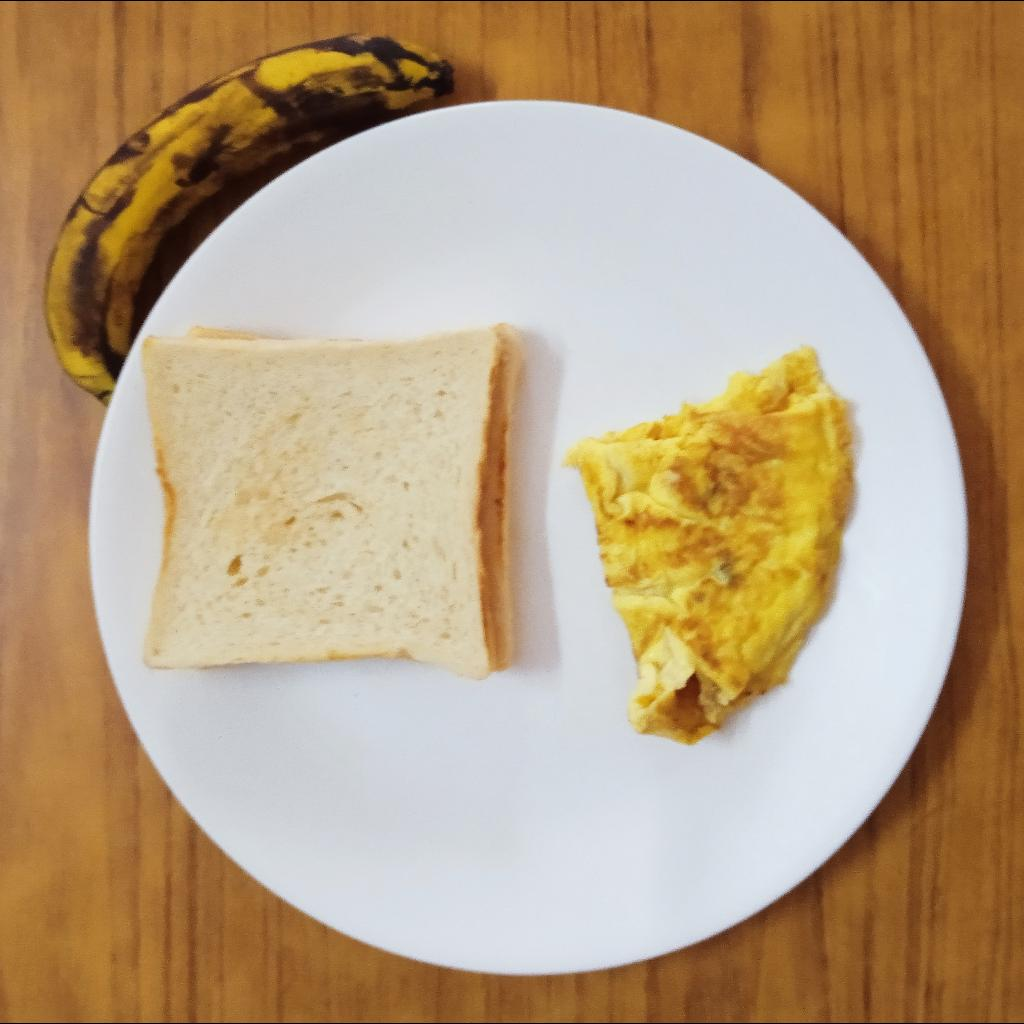banana: (41, 29, 449, 407)
bread: (137, 317, 521, 681)
egg-poached: (562, 346, 856, 748)
